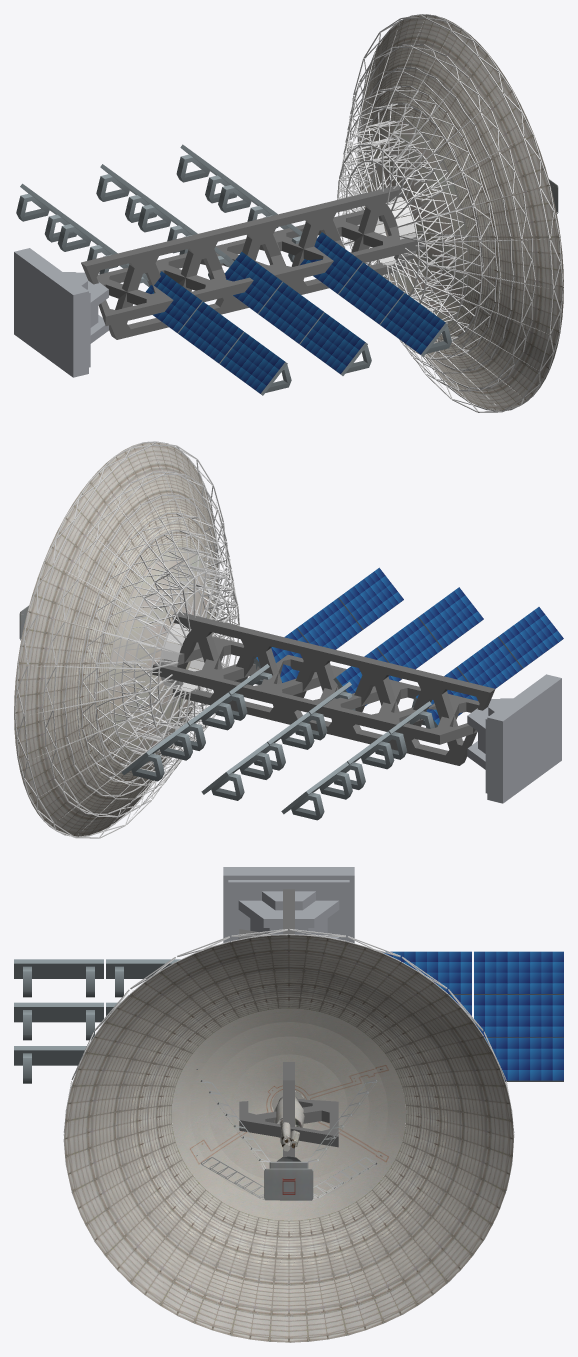
The model's file is stellar_collector.glb.
3 views of the same model, one above another, from view 1: azimuth 30°, elevation 25°; view 2: azimuth 150°, elevation 25°; view 3: azimuth 270°, elevation 25° (orthographic). The views are drawn at different scales.
Visible parts, largest first — view 1: n_dish.8, q_truss.2, q_truss.4, k_gen.6, kk_solar.29, kk_solar.23, kk_solar.17, kk_solar.16, kk_solar.28, kk_solar.22, kk_solar.21, kk_solar.15 (+7 smaller); view 2: n_dish.8, q_truss.2, q_truss.4, k_gen.6, kk_solar.23, kk_solar.17, kk_solar.29, kk_solar.22, kk_solar.16, kk_solar.28, kk_solar.26, kk_solar.14 (+10 smaller); view 3: n_dish.8, k_gen.6, kk_solar.26, kk_solar.20, kk_solar.14, q_truss.4, kk_solar.25, kk_solar.23, kk_solar.29, kk_solar.17, q_truss.2, kk_solar.28.
Part boxes in pixels (bbox=[...]): n_dish.8: bbox=[337, 14, 563, 412]; q_truss.2: bbox=[81, 185, 405, 339]; q_truss.4: bbox=[96, 210, 424, 325]; k_gen.6: bbox=[14, 248, 108, 377]; kk_solar.29: bbox=[220, 332, 291, 395]; kk_solar.23: bbox=[300, 313, 371, 375]; kk_solar.17: bbox=[380, 293, 451, 356]; kk_solar.16: bbox=[338, 262, 404, 325]; kk_solar.28: bbox=[178, 301, 244, 364]; kk_solar.22: bbox=[258, 282, 324, 344]; kk_solar.21: bbox=[225, 252, 282, 313]; kk_solar.15: bbox=[300, 232, 363, 294]; n_dish.8: bbox=[14, 441, 239, 838]; q_truss.2: bbox=[172, 611, 495, 765]; q_truss.4: bbox=[152, 636, 479, 744]; k_gen.6: bbox=[467, 674, 561, 803]; kk_solar.23: bbox=[418, 587, 483, 649]; kk_solar.17: bbox=[338, 567, 403, 629]; kk_solar.29: bbox=[498, 607, 563, 668]; kk_solar.22: bbox=[376, 617, 442, 680]; kk_solar.16: bbox=[296, 598, 362, 649]; kk_solar.28: bbox=[456, 637, 522, 688]; kk_solar.26: bbox=[281, 761, 352, 820]; kk_solar.14: bbox=[121, 723, 192, 781]; n_dish.8: bbox=[63, 929, 514, 1342]; k_gen.6: bbox=[223, 867, 354, 943]; kk_solar.26: bbox=[474, 951, 563, 994]; kk_solar.20: bbox=[474, 995, 563, 1037]; kk_solar.14: bbox=[485, 1038, 563, 1081]; q_truss.4: bbox=[239, 929, 338, 1147]; kk_solar.25: bbox=[383, 951, 471, 994]; kk_solar.23: bbox=[14, 1002, 103, 1040]; kk_solar.29: bbox=[14, 959, 103, 997]; kk_solar.17: bbox=[14, 1046, 86, 1083]; q_truss.2: bbox=[283, 889, 294, 1157]; kk_solar.28: bbox=[106, 959, 180, 997].
Size of the model in its own units: 7.94 by 5.5 by 6.71.
7 materials, 5 textured.
